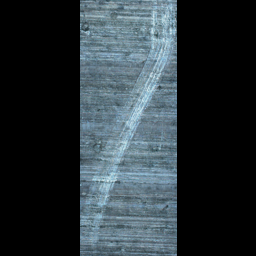d: (148, 0, 176, 75), (84, 177, 112, 243), (102, 120, 129, 186), (127, 67, 153, 121)
